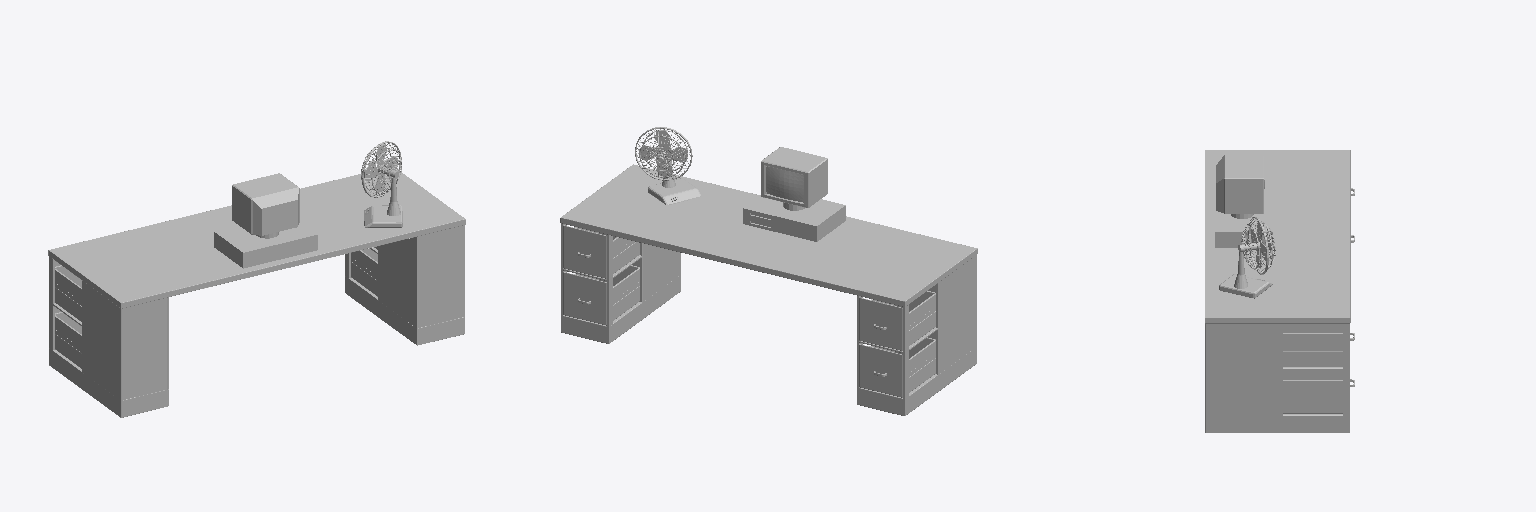
Rendered from Drawer_Desk_01.obj.
3 views of the same model, side by side, from view 1: azimuth 30°, elevation 25°; view 2: azimuth 150°, elevation 25°; view 3: azimuth 270°, elevation 25° (orthographic).
Visible parts, largest first — view 1: Cabinet, Cylinder, Desk.001, Drawer_02, Drawer_01; view 2: Cabinet, Cylinder, Drawer_02, Drawer_01, Desk.001; view 3: Cabinet, Cylinder, Drawer_02, Drawer_01, Desk.001.
Boxes of the visible parts, x1,y1,x2,y2 form: Cabinet: [48, 170, 465, 417]; Cylinder: [214, 173, 317, 268]; Desk.001: [361, 141, 402, 227]; Drawer_02: [55, 248, 377, 368]; Drawer_01: [55, 246, 377, 321]; Cabinet: [560, 164, 977, 415]; Cylinder: [743, 147, 845, 241]; Drawer_02: [563, 265, 935, 397]; Drawer_01: [563, 225, 935, 350]; Desk.001: [635, 127, 700, 204]; Cabinet: [1205, 150, 1350, 432]; Cylinder: [1215, 155, 1272, 247]; Drawer_02: [1283, 235, 1354, 413]; Drawer_01: [1283, 188, 1354, 366]; Desk.001: [1219, 217, 1275, 298].
Size of the model in its own units: 2.72 by 1.4 by 1.02.